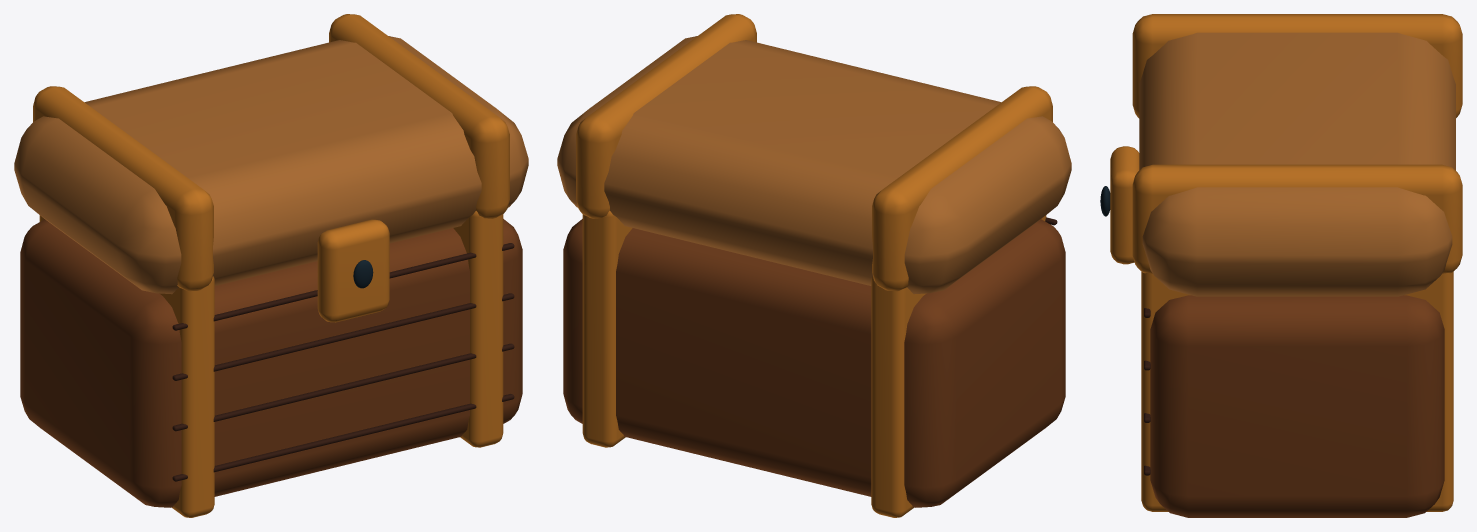
File: chest_closed.glb
3 renders of one model, left to right at view 1: azimuth 30°, elevation 25°; view 2: azimuth 150°, elevation 25°; view 3: azimuth 270°, elevation 25°, orthographic. The views are drawn at different scales.
Visible parts, largest first — view 1: chest_body, rounded_chest_lid, lid_band, chest_brass_band, chest_brass_band.001, lid_band.001, chest_lock, chest_plank_seam.002, chest_plank_seam.001, chest_plank_seam, chest_plank_seam.003; view 2: chest_body, rounded_chest_lid, lid_band, chest_brass_band.001, chest_brass_band, lid_band.001; view 3: rounded_chest_lid, chest_body, lid_band.001, lid_band, chest_brass_band.001, chest_lock.
Boxes of the visible parts, bbox=[...] form: chest_body: bbox=[20, 219, 522, 507]; rounded_chest_lid: bbox=[14, 36, 528, 294]; lid_band: bbox=[33, 86, 213, 291]; chest_brass_band: bbox=[39, 215, 214, 517]; chest_brass_band.001: bbox=[453, 211, 503, 447]; lid_band.001: bbox=[329, 14, 509, 218]; chest_lock: bbox=[317, 219, 389, 322]; chest_plank_seam.002: bbox=[172, 293, 514, 380]; chest_plank_seam.001: bbox=[172, 343, 514, 431]; chest_plank_seam: bbox=[172, 394, 514, 481]; chest_plank_seam.003: bbox=[172, 243, 514, 330]; chest_body: bbox=[563, 219, 1065, 507]; rounded_chest_lid: bbox=[557, 36, 1071, 294]; lid_band: bbox=[872, 86, 1052, 291]; chest_brass_band.001: bbox=[582, 211, 632, 447]; chest_brass_band: bbox=[871, 215, 1046, 517]; lid_band.001: bbox=[576, 14, 756, 218]; rounded_chest_lid: bbox=[1139, 32, 1455, 296]; chest_body: bbox=[1150, 295, 1444, 517]; lid_band.001: bbox=[1132, 164, 1462, 273]; lid_band: bbox=[1132, 14, 1462, 118]; chest_brass_band.001: bbox=[1141, 271, 1453, 511]; chest_lock: bbox=[1110, 146, 1139, 264].
Bounding box in the file's own units: 1.09 × 0.845 × 0.812.
